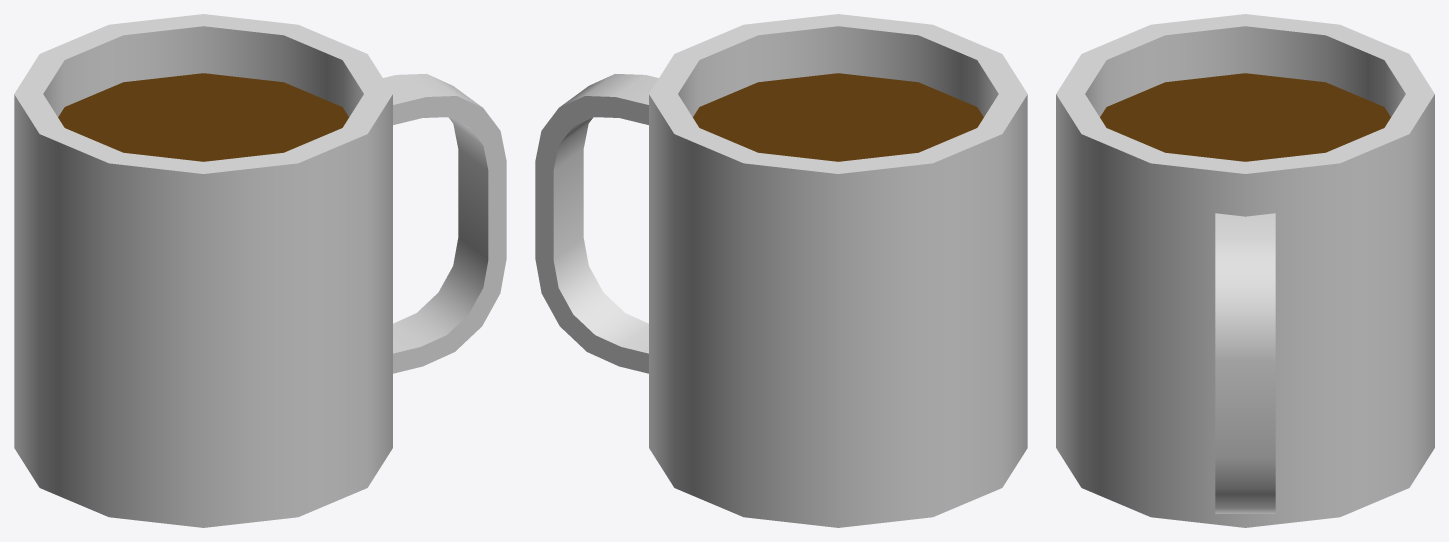
File: CoffeeCup_Filled.fbx
3 views of the same model, side by side, from view 1: azimuth 30°, elevation 25°; view 2: azimuth 150°, elevation 25°; view 3: azimuth 270°, elevation 25° (orthographic).
Visible parts, largest first — view 1: CoffeeCup_Filled; view 2: CoffeeCup_Filled; view 3: CoffeeCup_Filled.
Part boxes in pixels (x1=…): CoffeeCup_Filled: x1=14, y1=14, x2=506, y2=527; CoffeeCup_Filled: x1=535, y1=14, x2=1027, y2=527; CoffeeCup_Filled: x1=1056, y1=14, x2=1434, y2=527.
Size of the model in its own units: 15.58 by 11.66 by 11.31.
